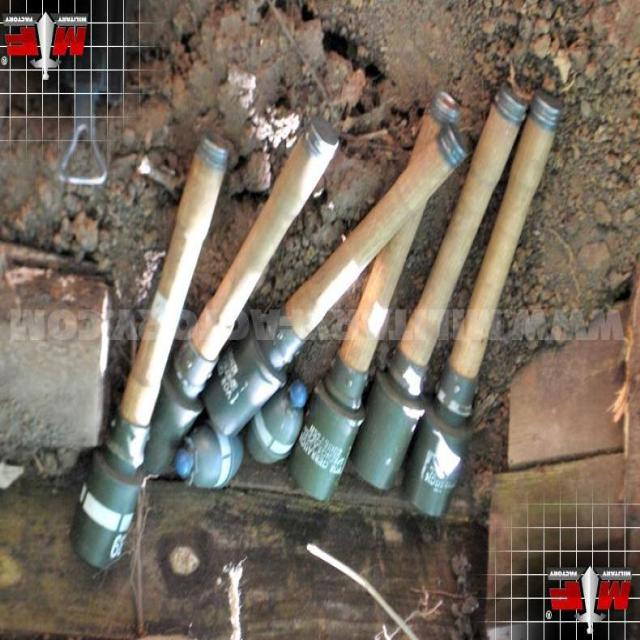grenade: (72, 411, 151, 571), (204, 312, 299, 442), (290, 359, 369, 503), (352, 346, 428, 493), (411, 359, 478, 519), (141, 346, 217, 479), (245, 375, 310, 468), (177, 423, 245, 495)
